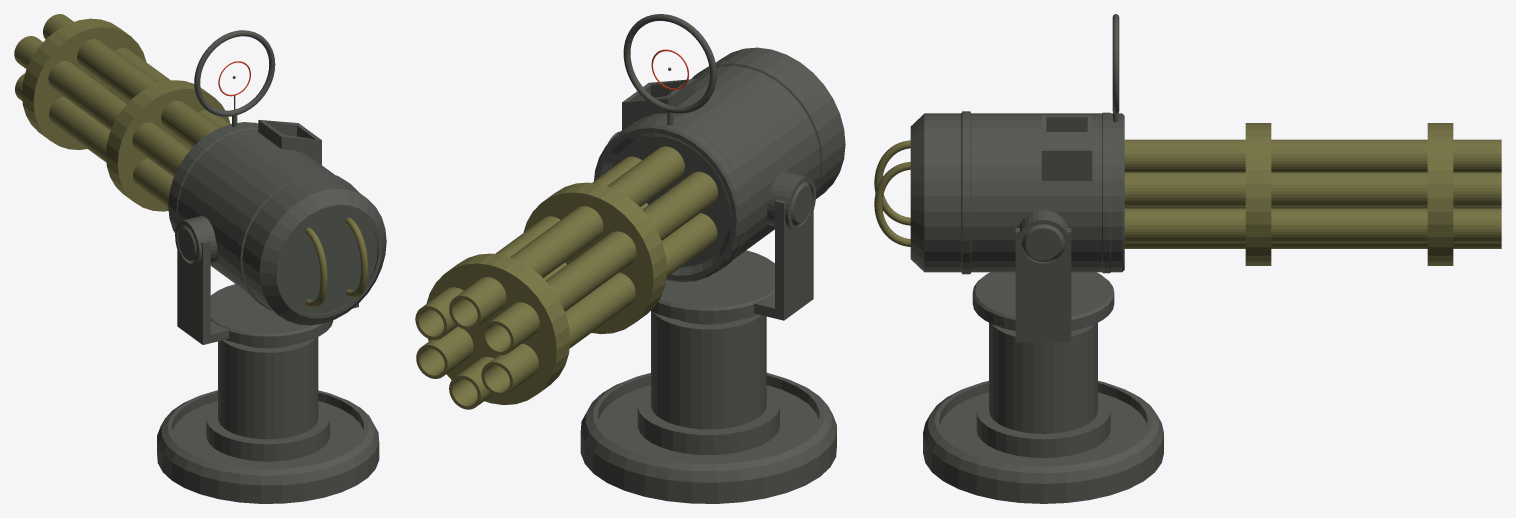
File: machine gun3.fbx
3 views of the same model, side by side, from view 1: azimuth 30°, elevation 25°; view 2: azimuth 150°, elevation 25°; view 3: azimuth 270°, elevation 25° (orthographic). The views are drawn at different scales.
Visible parts, largest first — view 1: Cylinder, Cylinder.001, Cylinder.006, NurbsCurve; view 2: Cylinder, Cylinder.006, Cylinder.001; view 3: Cylinder.006, Cylinder, Cylinder.001, NurbsCurve.
Boxes of the visible parts, bbox=[...] form: Cylinder: bbox=[157, 240, 379, 503]; Cylinder.001: bbox=[168, 30, 386, 325]; Cylinder.006: bbox=[14, 14, 230, 211]; NurbsCurve: bbox=[305, 217, 368, 307]; Cylinder: bbox=[580, 199, 836, 503]; Cylinder.006: bbox=[415, 146, 717, 409]; Cylinder.001: bbox=[594, 14, 845, 282]; Cylinder.006: bbox=[1124, 123, 1501, 265]; Cylinder: bbox=[923, 228, 1163, 503]; Cylinder.001: bbox=[910, 14, 1124, 274]; NurbsCurve: bbox=[874, 140, 910, 246].
Size of the model in its own units: 73.8 by 147 by 192.
